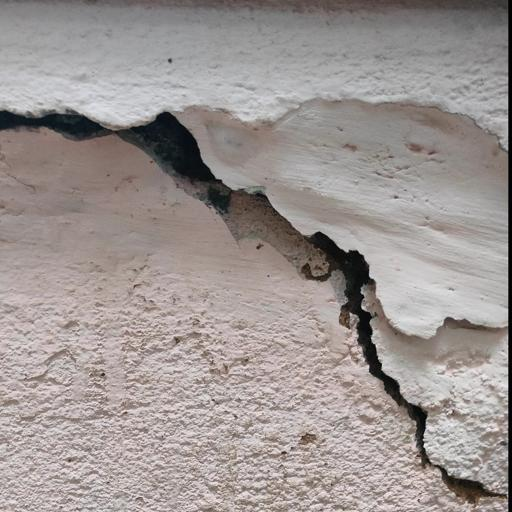major_crack: (0, 88, 501, 505)
